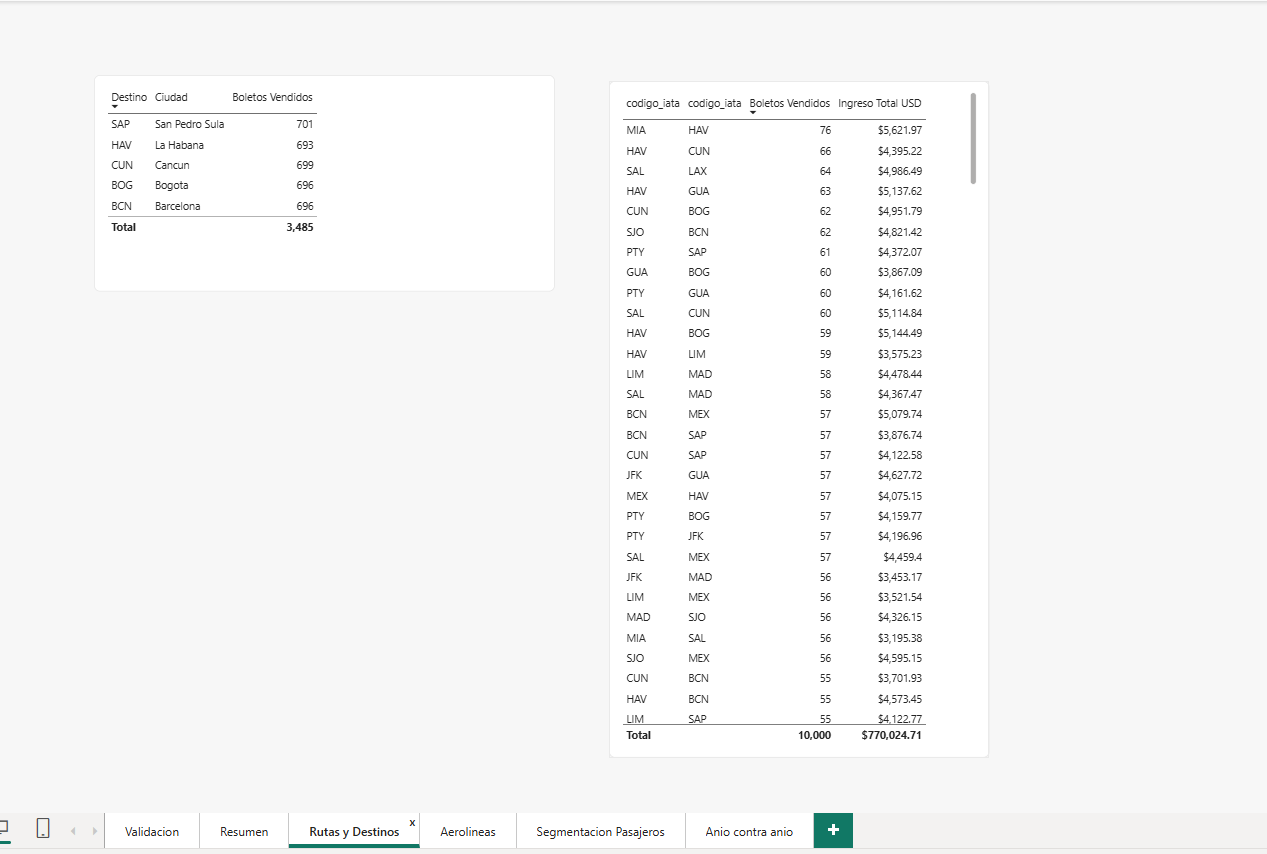

This screenshot's page, from the dashboard's own definition file:
{"tool":"powerbi","page":{"name":"Rutas y Destinos","canvas":[1920,1080],"ordinal":2},"visuals":[{"type":"tableEx","fields":{"Values":["Dim_Aeropuerto_Destino.codigo_iata","Dim_Aeropuerto_Destino.ciudad","Hecho_Boleto.Boletos Vendidos"]},"box":[128.8,98.8,612.5,287.5],"z":0},{"type":"tableEx","fields":{"Values":["Dim_Aeropuerto_Origen.codigo_iata","Dim_Aeropuerto_Destino.codigo_iata","Hecho_Boleto.Boletos Vendidos","Hecho_Boleto.Ingreso Total USD"]},"box":[813.8,106.2,506.2,900],"z":1}]}

Visuals, with their boxes on the page's 1920x1080 design canvas (x1, y1, x2, y2). These are canvas units, not pixel positions in the 1267x854 screenshot, which may show the page scaled, cropped or inside an application window:
tableEx - Dim_Aeropuerto_Destino.codigo_iata x Dim_Aeropuerto_Destino.ciudad: detection(129, 99, 741, 386)
tableEx - Dim_Aeropuerto_Origen.codigo_iata x Dim_Aeropuerto_Destino.codigo_iata: detection(814, 106, 1320, 1006)
